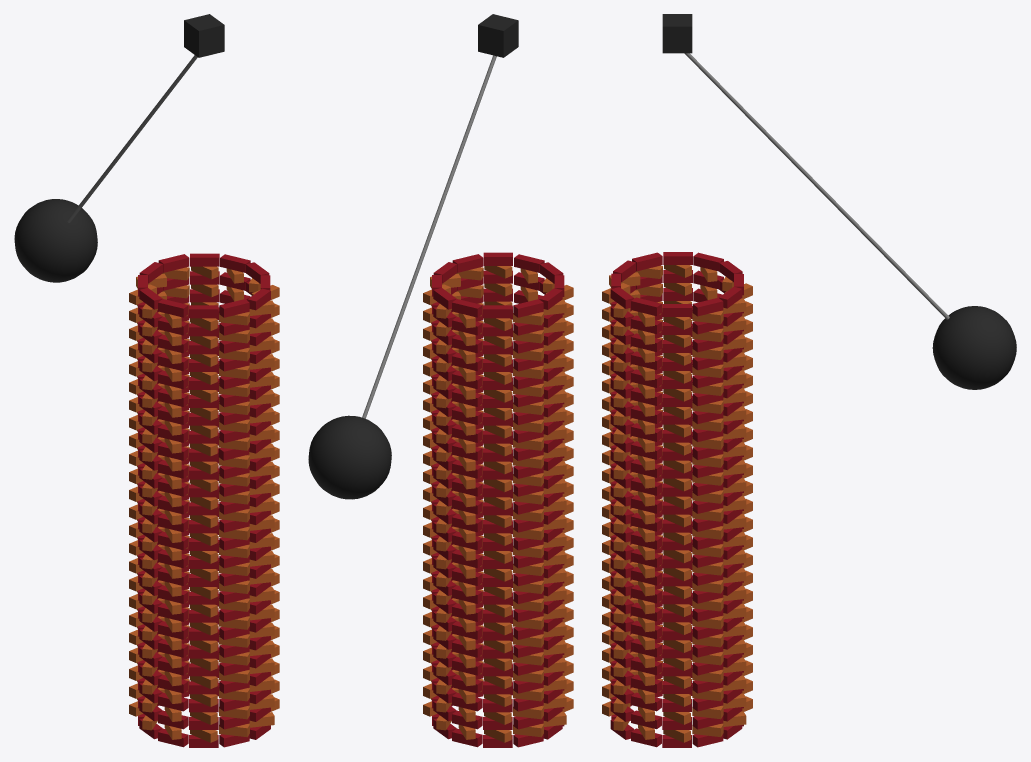
The model's file is silo.obj.
3 views of the same model, side by side, from view 1: azimuth 30°, elevation 25°; view 2: azimuth 150°, elevation 25°; view 3: azimuth 270°, elevation 25° (orthographic).
Visible parts, largest first — view 1: pSphere1, pCube591, pSphere1 pCylinder1; view 2: pSphere1, pSphere1 pCylinder1, pCube591; view 3: pSphere1, pSphere1 pCylinder1, pCube591.
Boxes of the visible parts, bbox=[...] form: pSphere1: bbox=[14, 199, 97, 282]; pCube591: bbox=[184, 14, 224, 57]; pSphere1 pCylinder1: bbox=[67, 55, 197, 222]; pSphere1: bbox=[308, 415, 391, 499]; pSphere1 pCylinder1: bbox=[362, 55, 496, 418]; pCube591: bbox=[478, 14, 518, 57]; pSphere1: bbox=[932, 306, 1016, 389]; pSphere1 pCylinder1: bbox=[684, 53, 949, 319]; pCube591: bbox=[662, 14, 692, 53].
Size of the model in its own units: 76.18 by 390 by 209.
